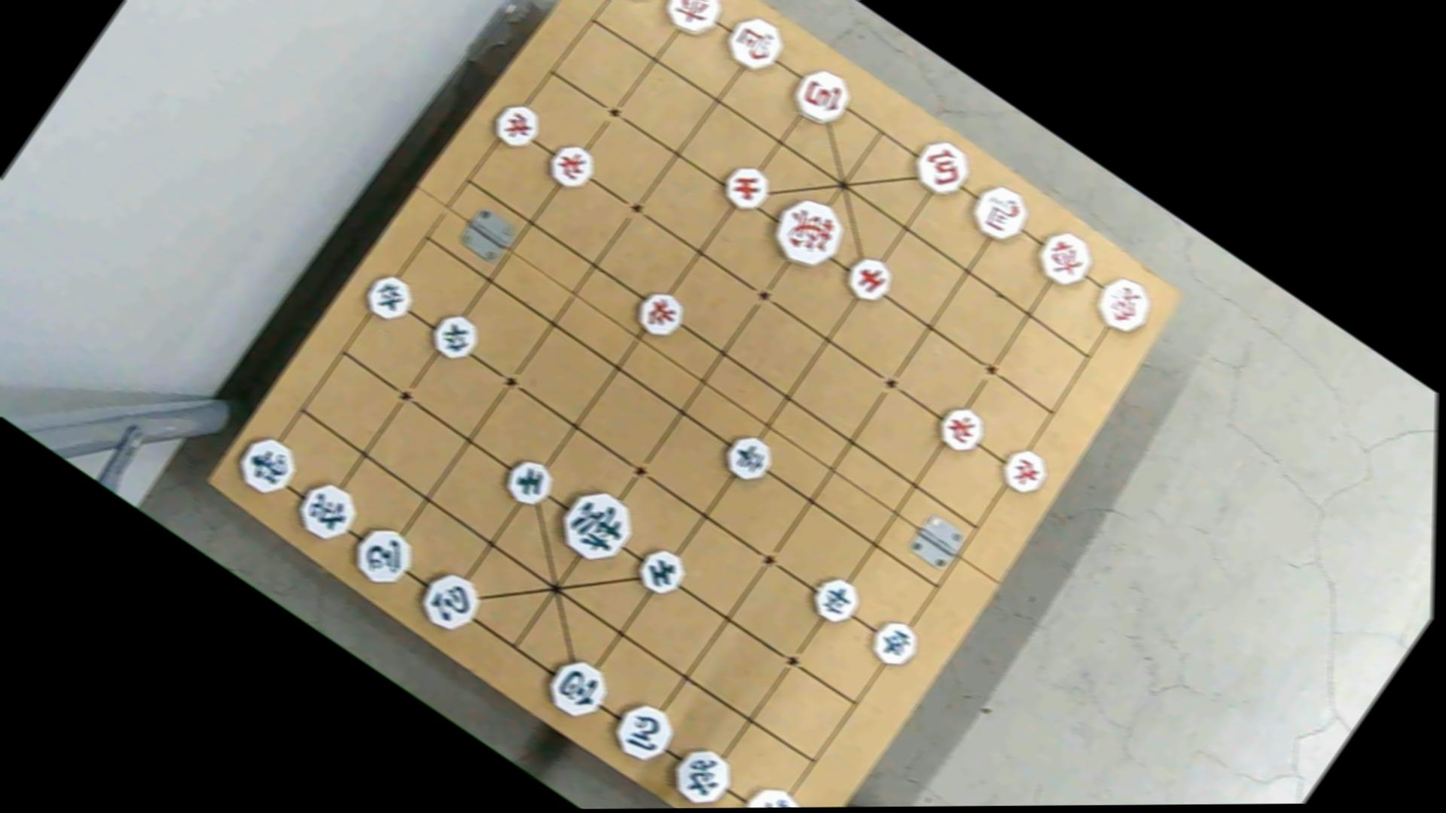cha_green: (289, 473, 368, 550), (662, 740, 741, 808)
cha_red: (1025, 224, 1102, 295), (654, 0, 729, 44)
jol_green: (357, 266, 423, 327), (714, 430, 779, 489), (803, 571, 866, 629), (862, 614, 925, 672), (424, 309, 487, 366)
jol_red: (484, 96, 548, 156), (629, 285, 692, 344), (540, 138, 604, 195), (928, 400, 991, 457), (994, 443, 1056, 500)
ma_green: (602, 694, 682, 768), (343, 517, 423, 591)
ma_red: (717, 10, 793, 79), (961, 180, 1033, 247)
po_green: (536, 651, 616, 726), (410, 565, 490, 640)
po_red: (901, 133, 978, 203), (785, 63, 855, 129)
sa_green: (496, 450, 562, 510), (630, 544, 694, 604)
sa_red: (712, 157, 776, 218), (838, 248, 900, 308)
sang_green: (228, 431, 307, 505), (730, 776, 807, 808)
sang_red: (1085, 270, 1162, 340)
wang_green: (549, 483, 643, 572)
wang_red: (763, 190, 856, 278)
